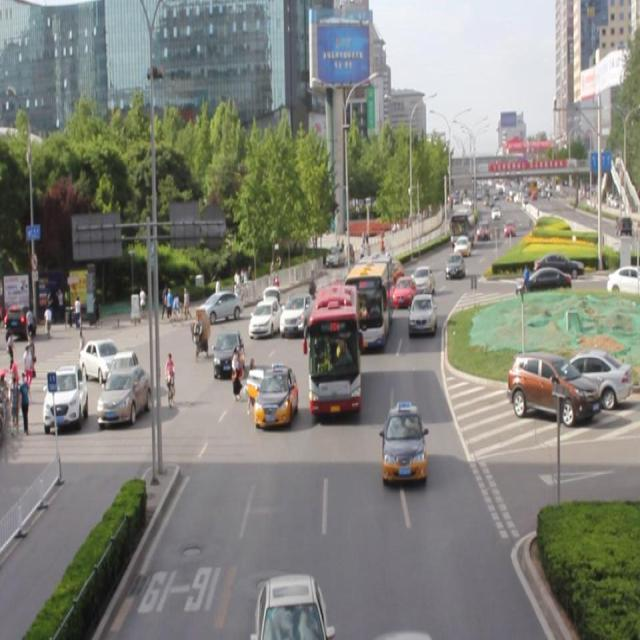car: (254, 573, 326, 640), (383, 402, 425, 484), (255, 365, 298, 426), (280, 292, 314, 337), (249, 296, 282, 340), (212, 329, 242, 376), (408, 292, 436, 334), (392, 274, 415, 308), (410, 266, 434, 296), (444, 252, 465, 280), (384, 259, 403, 287)
van: (309, 283, 360, 415), (344, 253, 390, 349)
